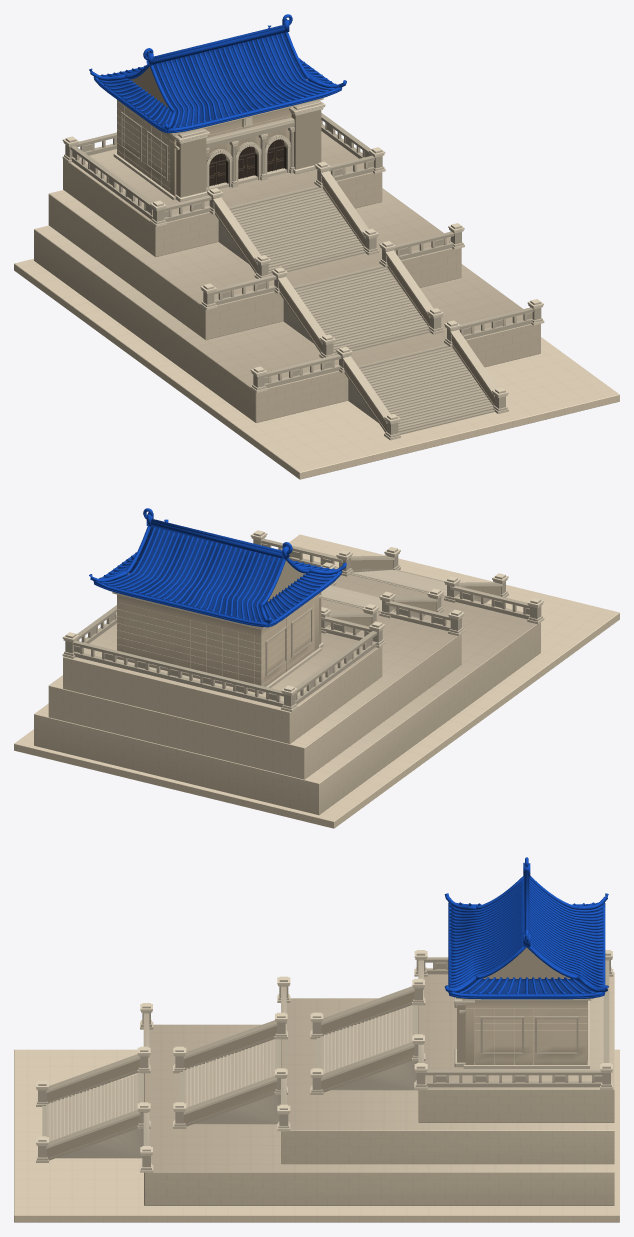
File: 中山陵_网页版.glb
3 views of the same model, one above another, from view 1: azimuth 30°, elevation 25°; view 2: azimuth 150°, elevation 25°; view 3: azimuth 270°, elevation 25° (orthographic). The views are drawn at different scales.
Parts seen in each view (by area): view 1: 中山陵_WEB_建筑; view 2: 中山陵_WEB_建筑; view 3: 中山陵_WEB_建筑.
Boxes of the visible parts, x1,y1,x2,y2 form: 中山陵_WEB_建筑: (14,14,619,479); 中山陵_WEB_建筑: (14,508,619,828); 中山陵_WEB_建筑: (14,857,619,1222).
Size of the model in its own units: 22 by 15.24 by 34.
10 materials, 2 textured.
